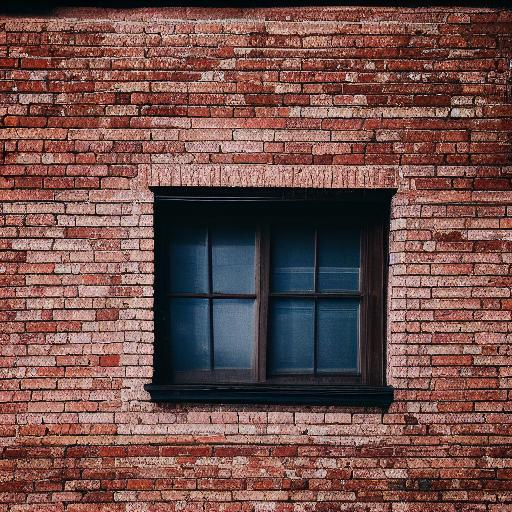Window: (143, 167, 399, 413)
